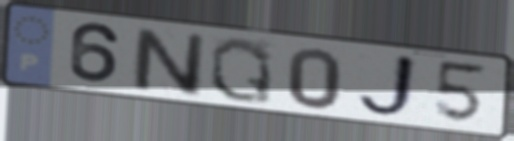0: (283, 44, 346, 112)
5: (431, 57, 491, 127)
6: (68, 20, 122, 88)
J: (353, 51, 421, 121)
N: (131, 25, 207, 99)
Q: (207, 35, 274, 107)
